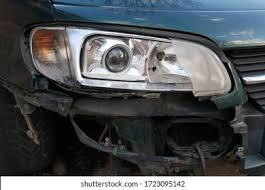Headlight-Damage: (16, 25, 242, 111)
